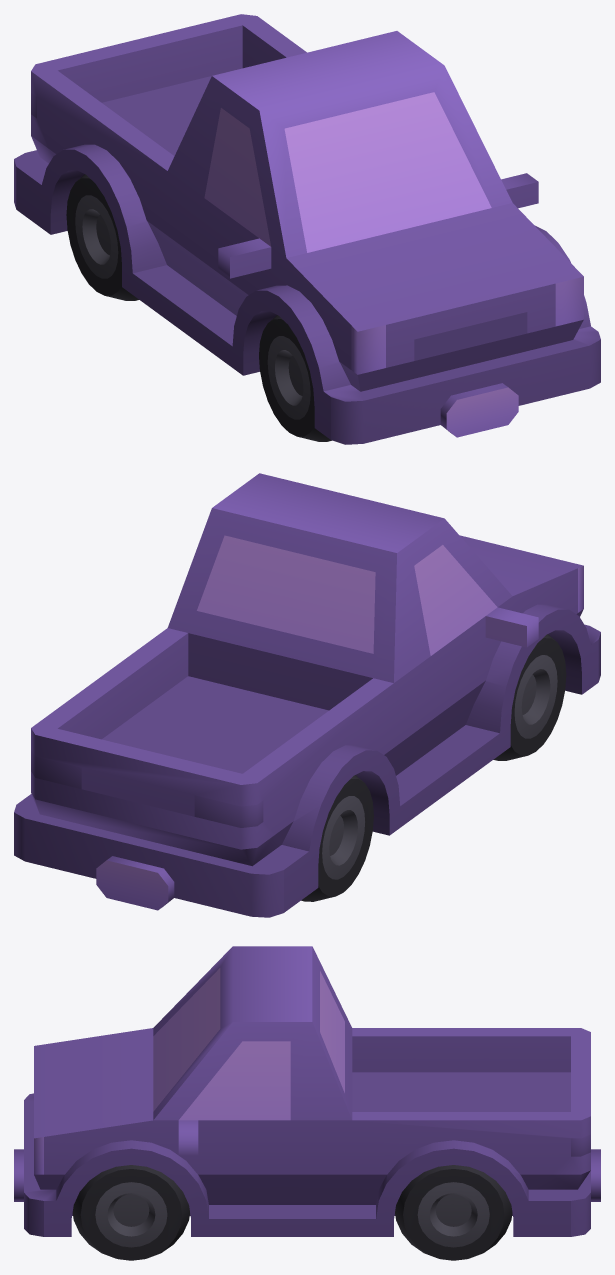
File: truck.glb
3 renders of one model, top to bottom at view 1: azimuth 30°, elevation 25°; view 2: azimuth 150°, elevation 25°; view 3: azimuth 270°, elevation 25°, orthographic. The views are drawn at different scales.
Parts seen in each view (by area): view 1: truck; view 2: truck; view 3: truck.
Part boxes in pixels (box(x1,y1,x2,y2)): truck: box(14, 14, 600, 444); truck: box(14, 473, 600, 917); truck: box(14, 946, 600, 1260).
Bounding box in the file's own units: 1.5 × 1.3 × 2.95.
